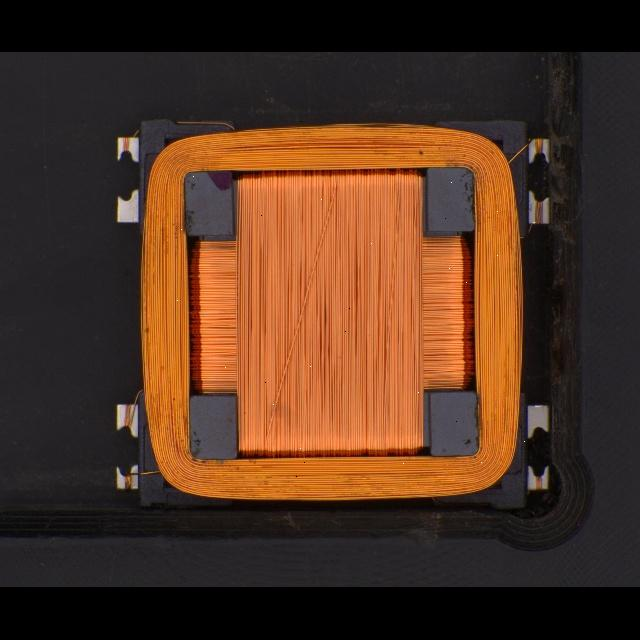Winding_Z: (134, 119, 528, 504)
